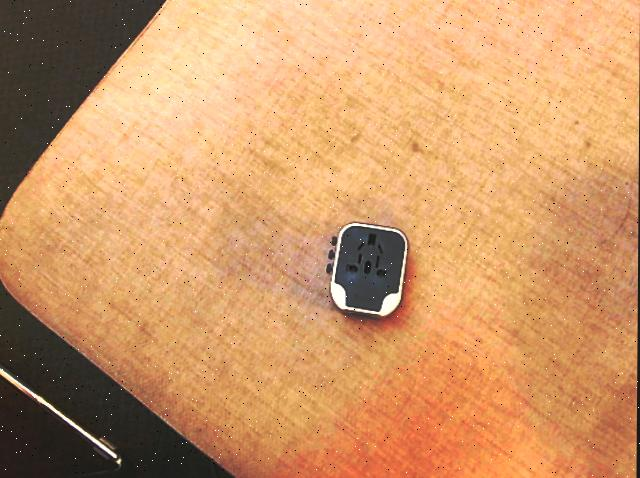adapter: (326, 220, 409, 318)
